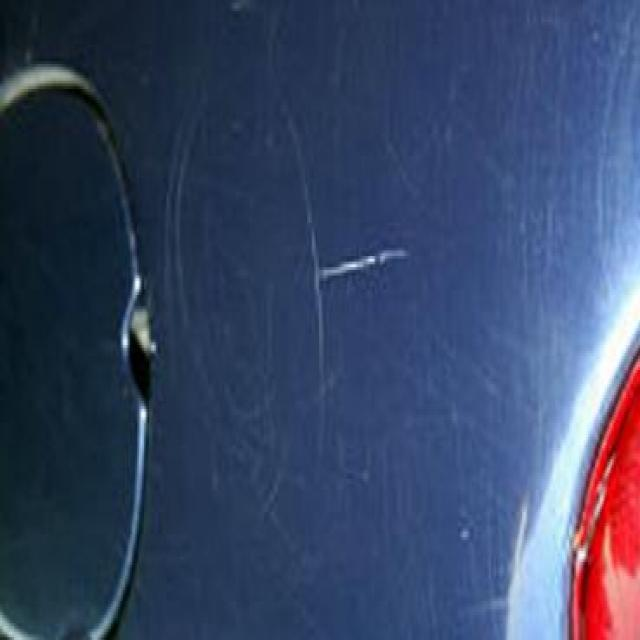scratch: (312, 222, 416, 318)
